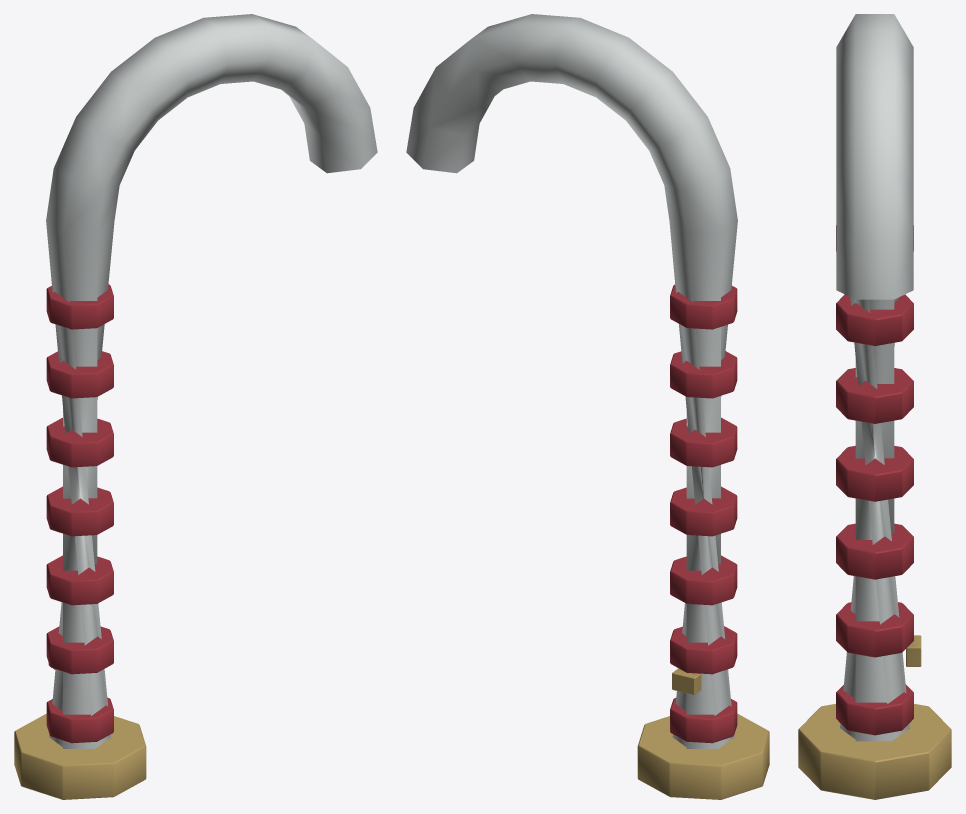
Rendered from candy_cane_low.glb.
3 views of the same model, side by side, from view 1: azimuth 30°, elevation 25°; view 2: azimuth 150°, elevation 25°; view 3: azimuth 270°, elevation 25° (orthographic). The views are drawn at different scales.
Size of the model in its own units: 0.5279 by 1.04 by 0.1788.
